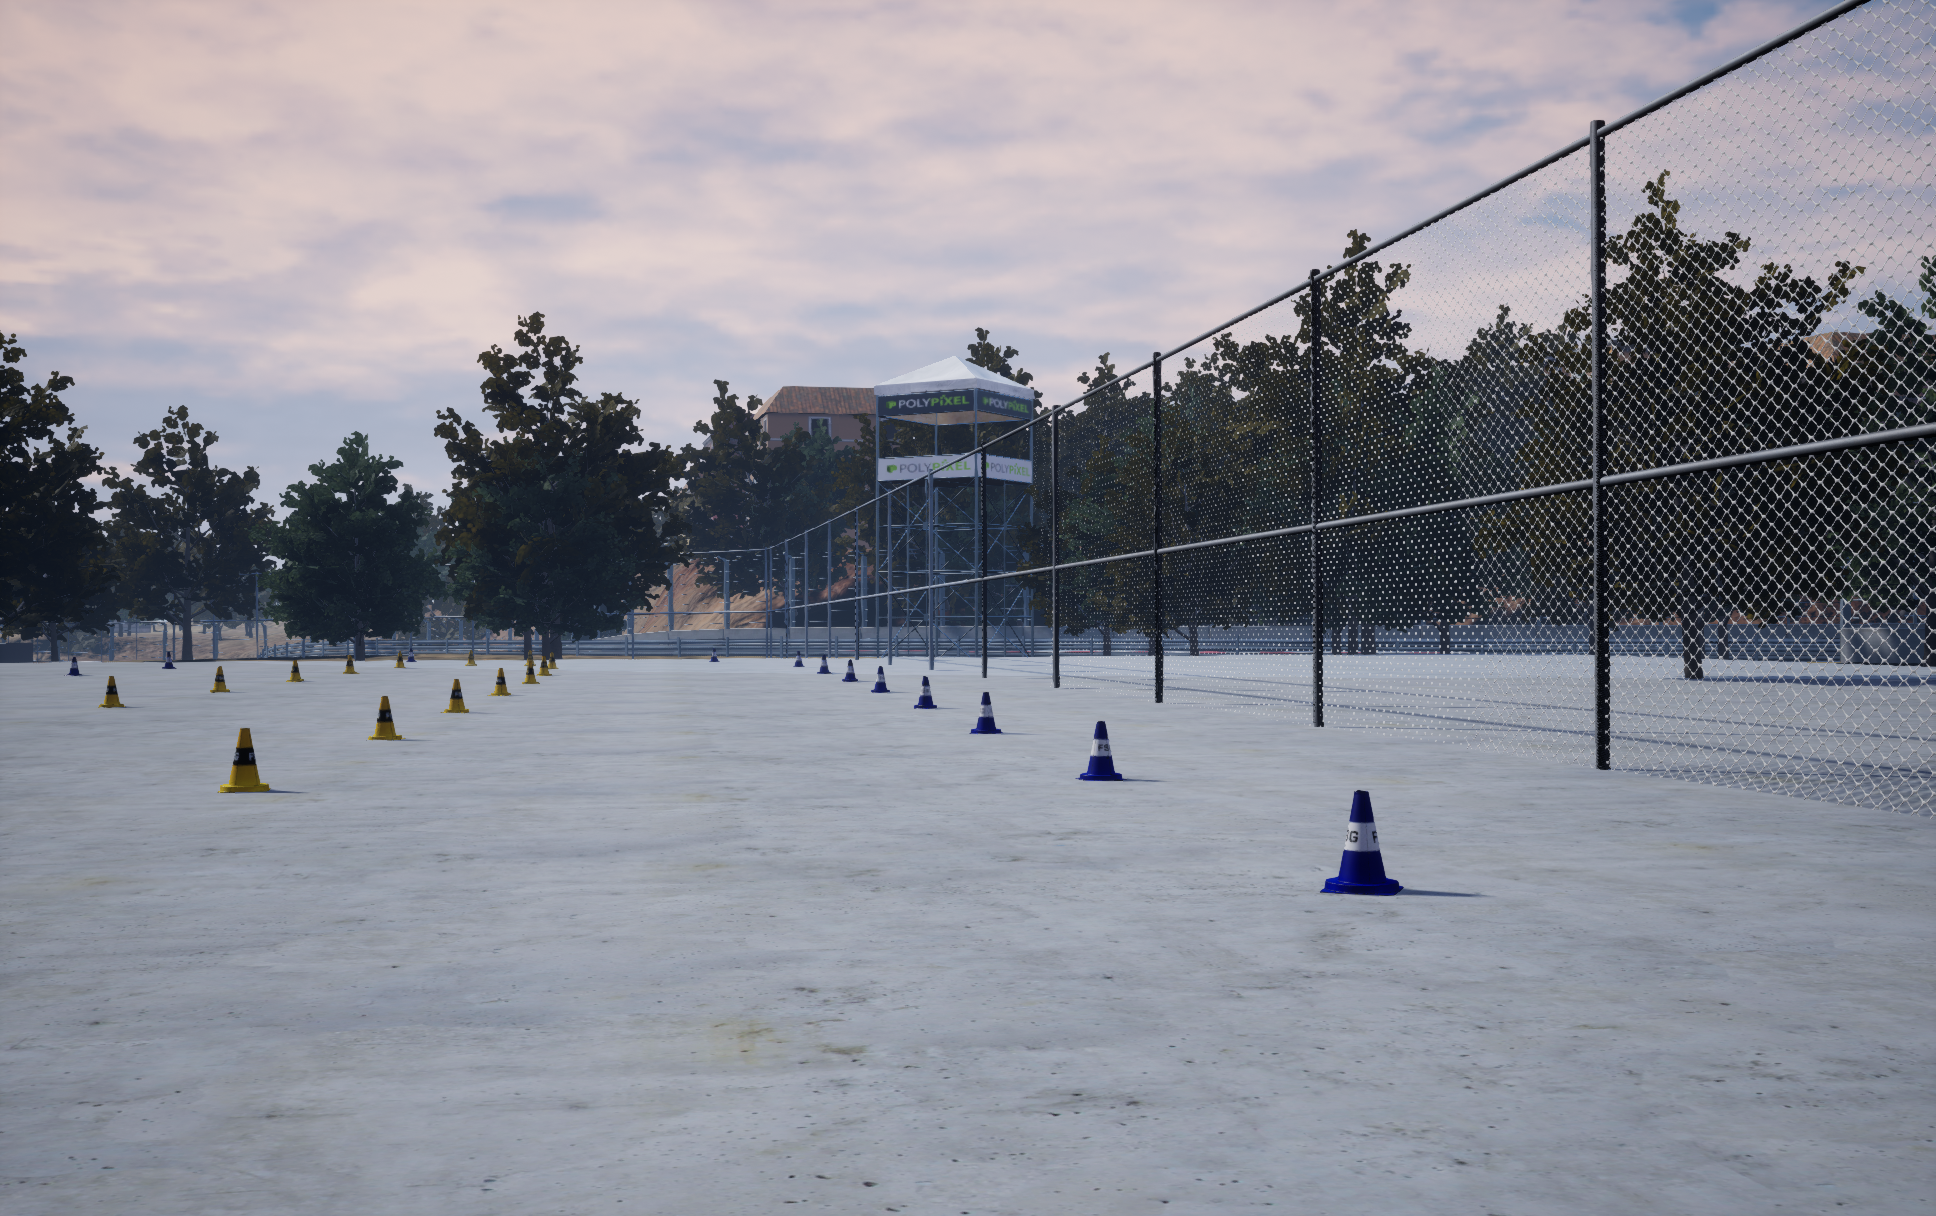blue: (217, 728, 270, 792), (366, 696, 405, 740), (440, 679, 468, 712), (98, 677, 125, 707), (488, 668, 510, 695), (210, 665, 228, 692), (523, 661, 539, 684), (286, 660, 303, 681), (537, 656, 551, 675), (343, 656, 359, 672)
yellow: (1320, 790, 1404, 895), (1074, 721, 1126, 780), (969, 692, 1002, 733), (913, 677, 936, 707), (871, 665, 890, 692), (842, 658, 857, 681), (817, 654, 831, 672)
